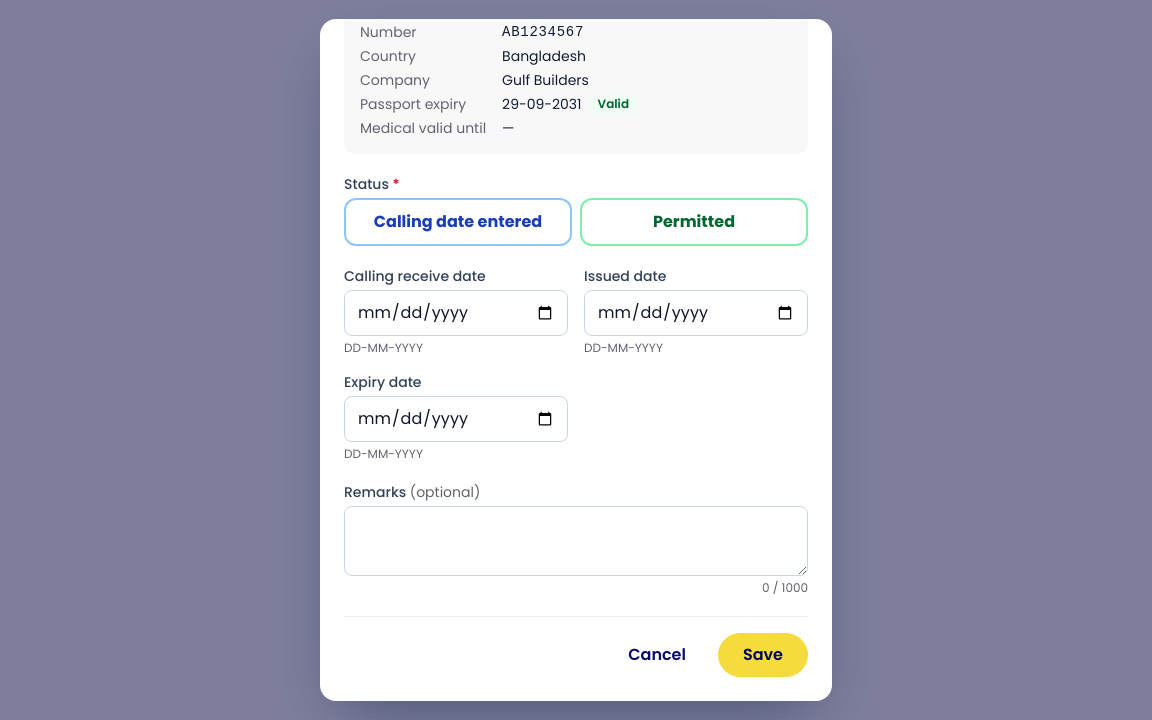
Test: RecordStepModal › requires a status
(page scrolled)
Click the button "Save": (763, 655) [718,633,808,677]
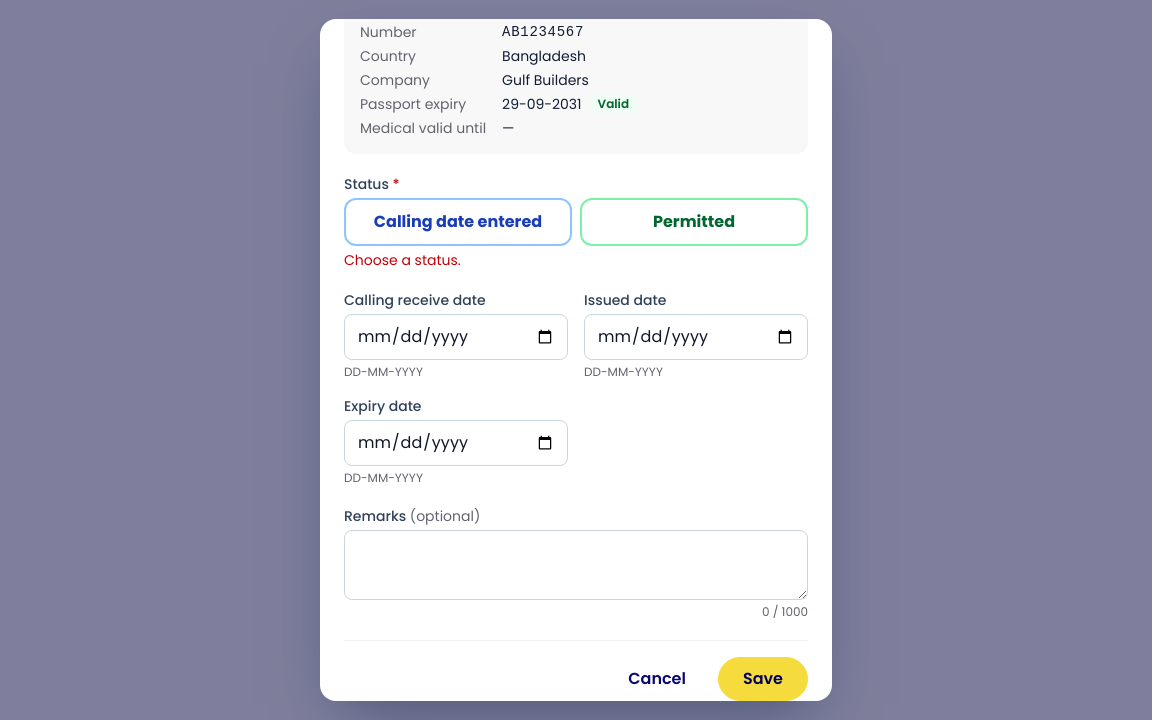
Now the text "Choose a status." is shown, box [344,250,461,270]
